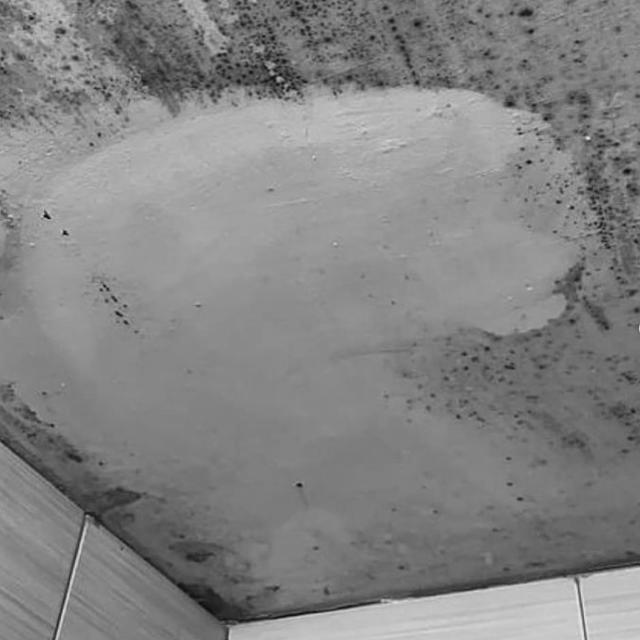stain marks: (0, 1, 639, 628)
